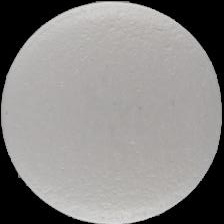63187-052: (0, 0, 224, 224)
